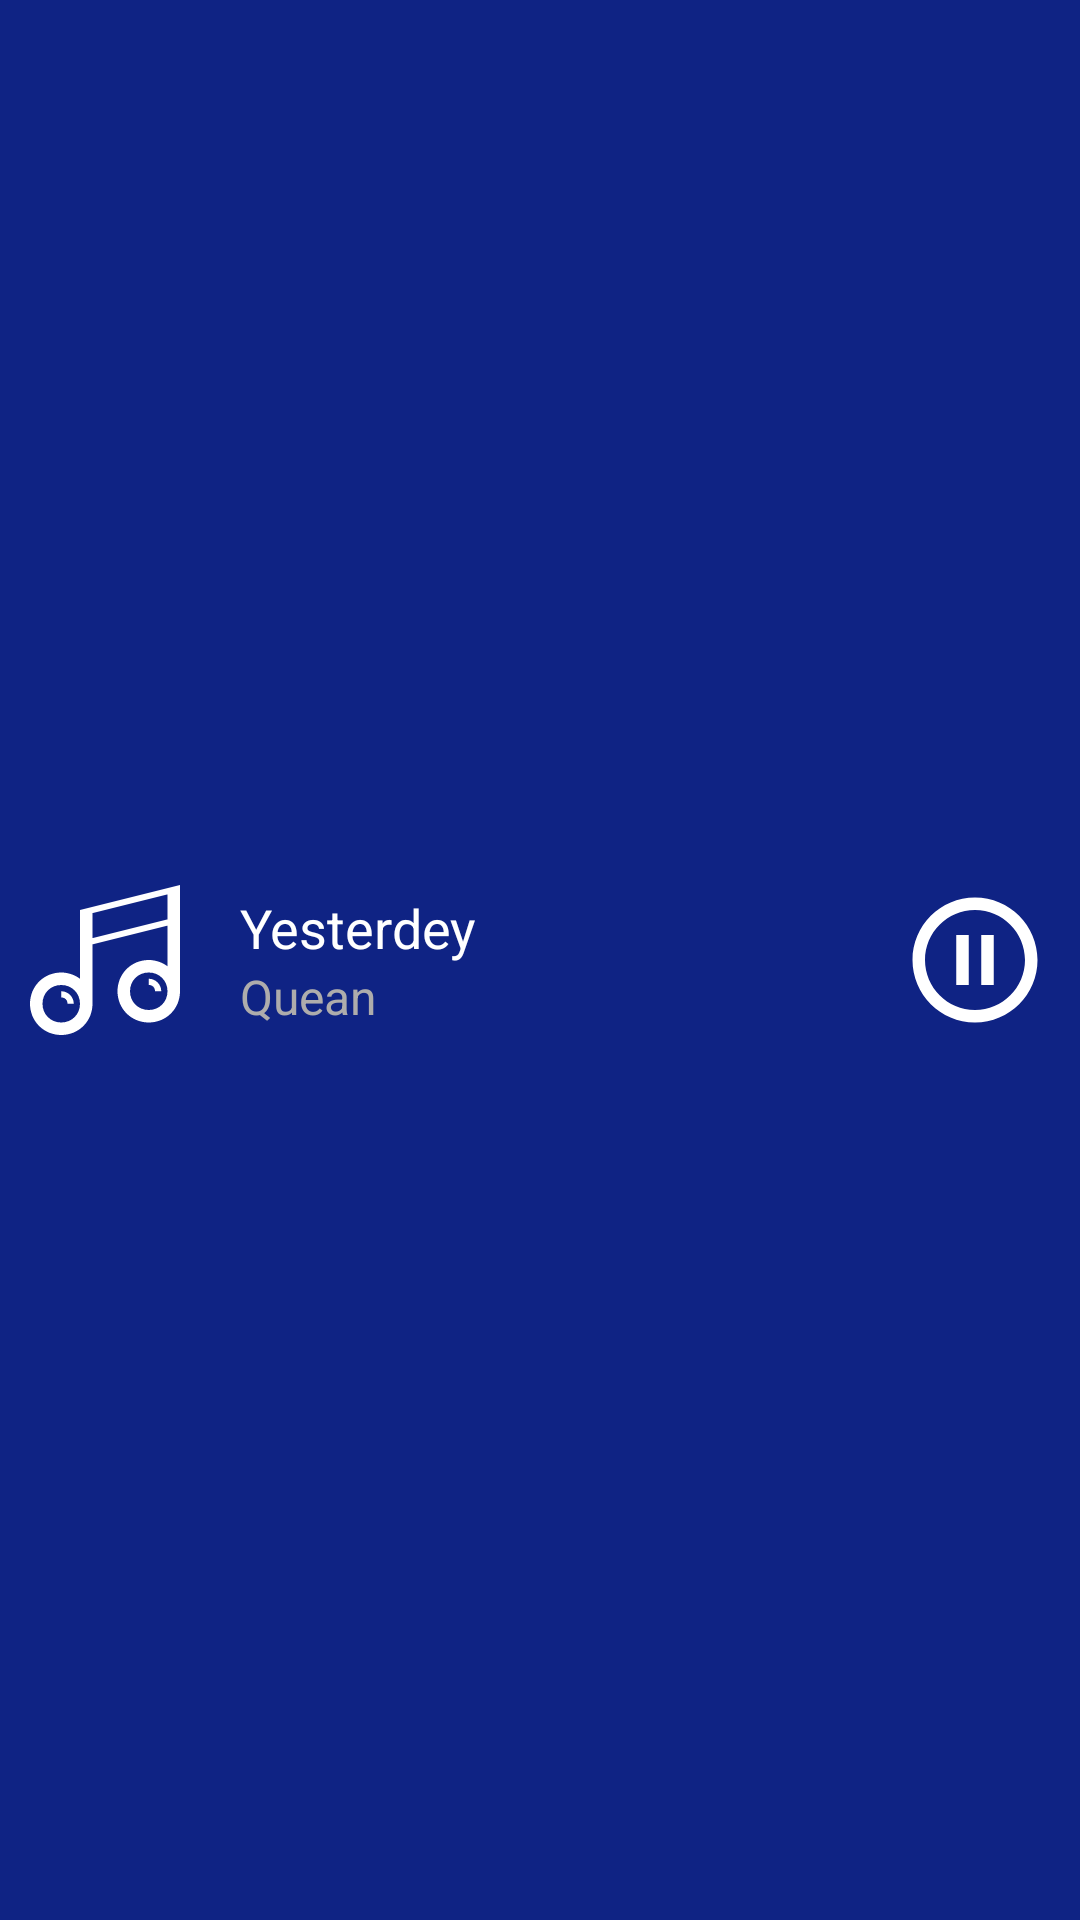

Locate icon controls on the screen. Image size 1080 x 1920, boxes as (x1, y1, x2, y2).
music: (30, 885, 180, 1035)
pause: (912, 897, 1038, 1023)
